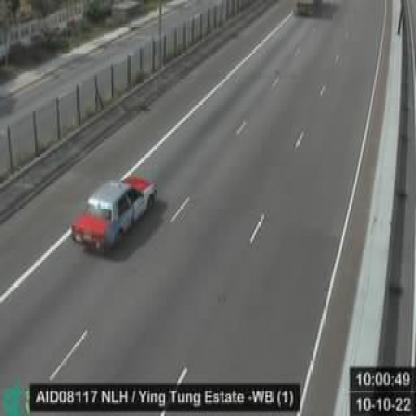Car: (70, 174, 154, 252)
